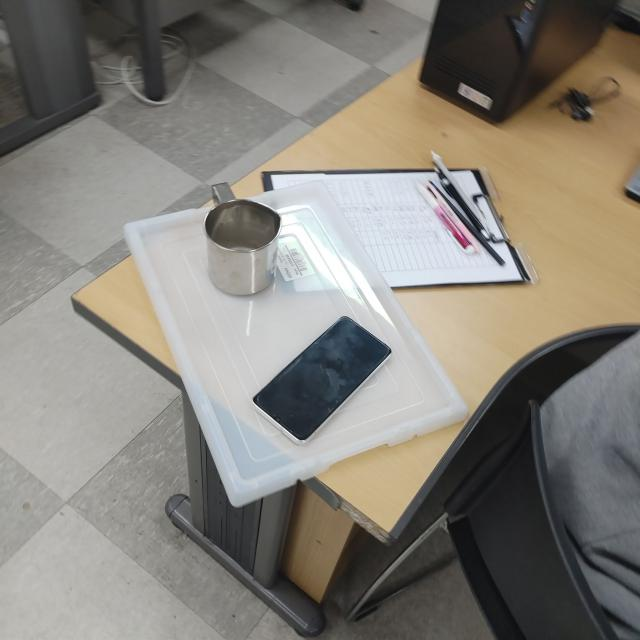cup: (204, 180, 282, 302)
phone: (250, 312, 394, 449)
